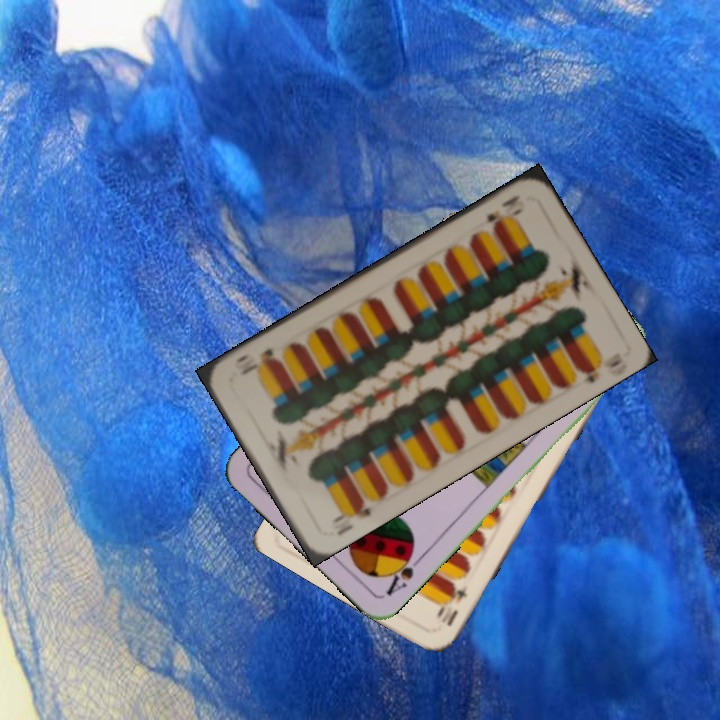E10: (480, 191, 527, 231), (432, 580, 470, 629), (328, 496, 374, 526)
SA: (381, 545, 426, 599)
